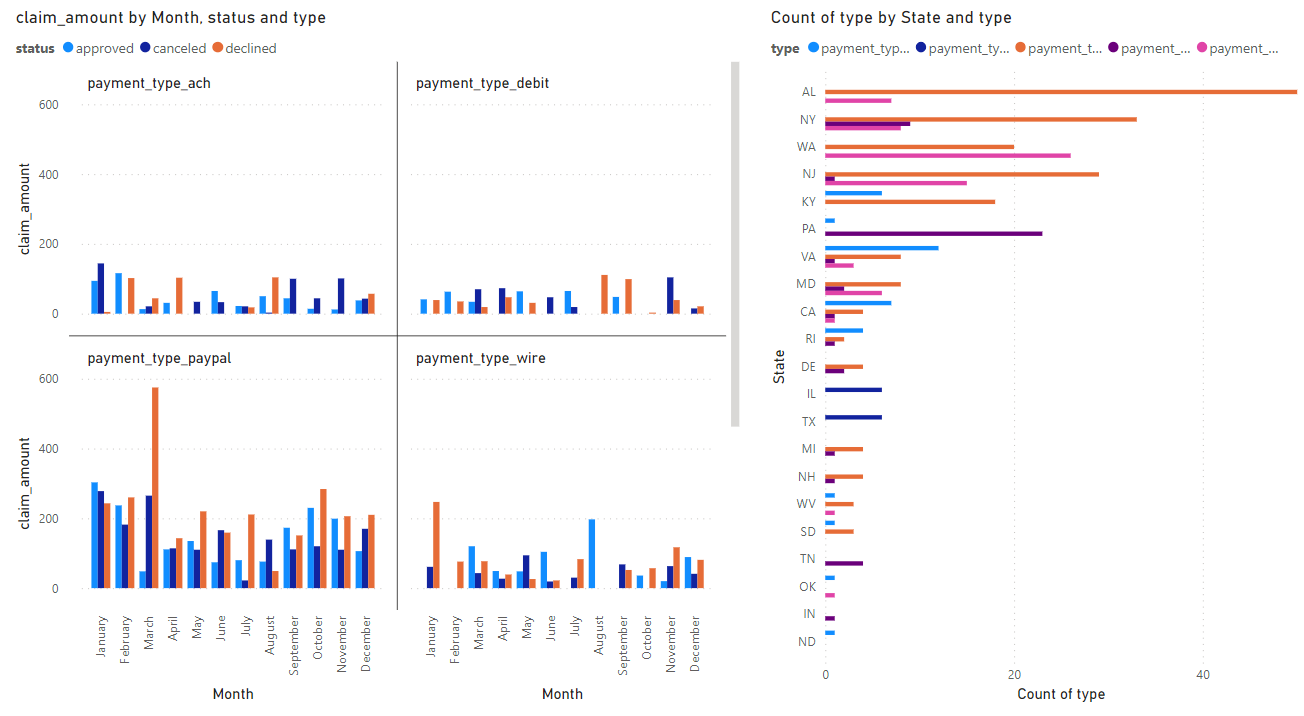

The dashboard page shown, as its layout file describes it:
{"tool":"powerbi","page":{"name":"Page 2","canvas":[1280,720],"ordinal":1},"visuals":[{"type":"clusteredColumnChart","fields":{"Category":["Payment type distribution.created_at.Variation.Date Hierarchy.Month"],"Series":["Payment type distribution.status"],"Y":["Sum(Payment type distribution.claim_amount)"],"Rows":["Payment type distribution.type"]},"box":[26.1,15.1,708.7,677.1],"z":0},{"type":"clusteredBarChart","fields":{"Category":["Payment type distribution.State"],"Series":["Payment type distribution.type"],"Y":["CountNonNull(Payment type distribution.type)"]},"box":[755.4,15.1,524.6,677.1],"z":1}]}

Visuals, with their boxes in screenshot pixels (x1, y1, x2, y2), scaled from the page's 1280x720 canvas onto the 1304x716 screenshot:
clusteredColumnChart - Payment type distribution.created_at.Variation.Date Hierarchy.Month x Payment type distribution.status: 27:15:749:688
clusteredBarChart - Payment type distribution.State x Payment type distribution.type: 770:15:1303:688
